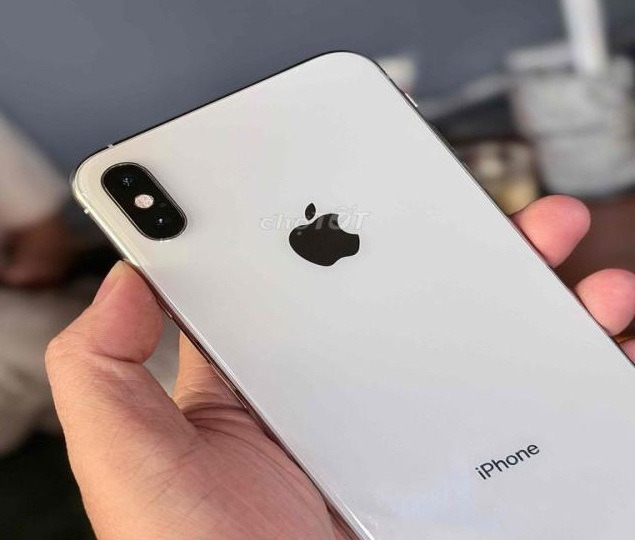scratch: (106, 158, 133, 171), (153, 235, 192, 242)
